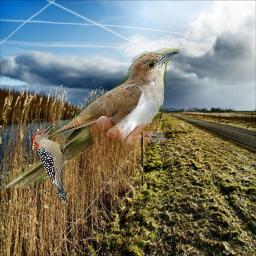Cuckoo: (3, 48, 179, 188)
Woodpecker: (33, 123, 69, 206)
